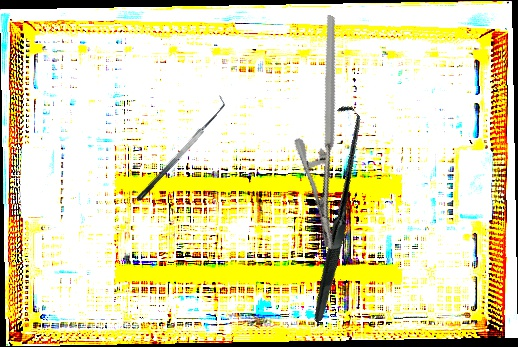Hook Surgical: (221, 101, 444, 324)
Needle Holder: (252, 14, 409, 250)
Spatula Surgical: (127, 95, 233, 203)
